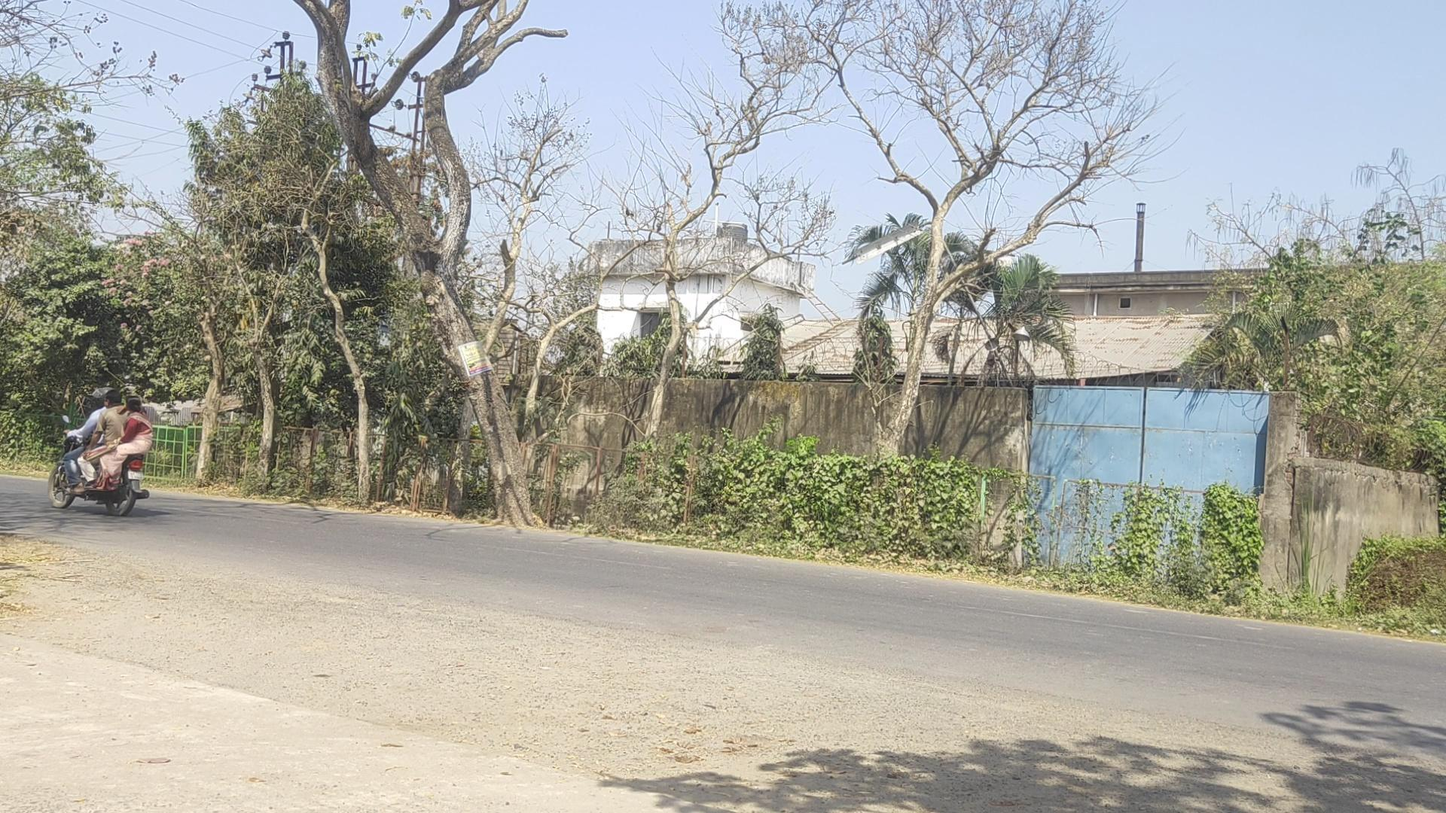bike: (47, 389, 152, 517)
